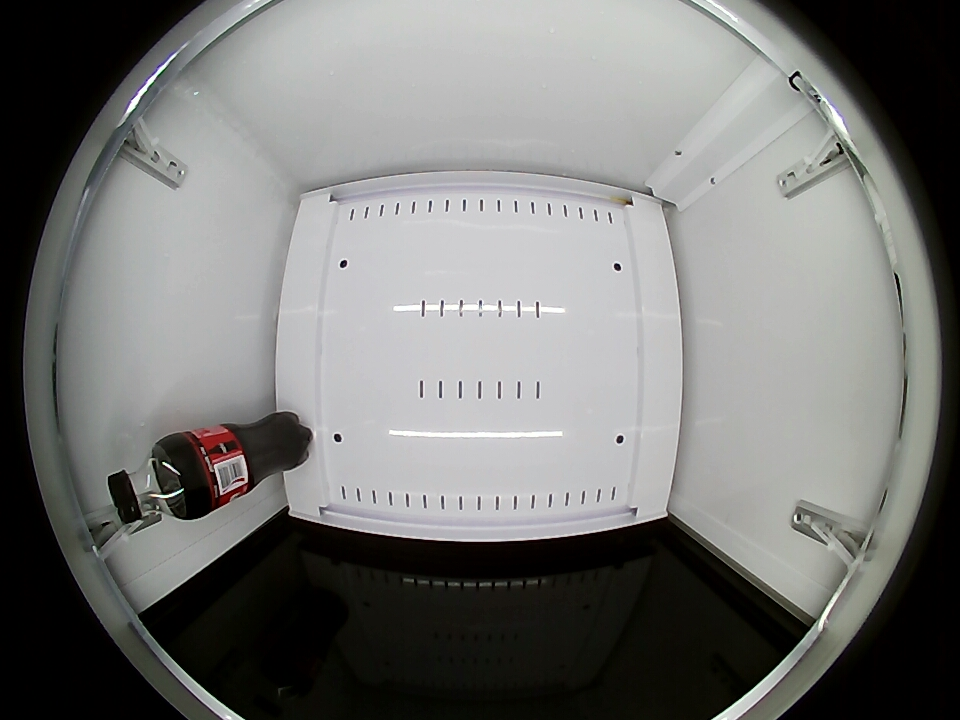lingdukele-b: (107, 442, 189, 525)
